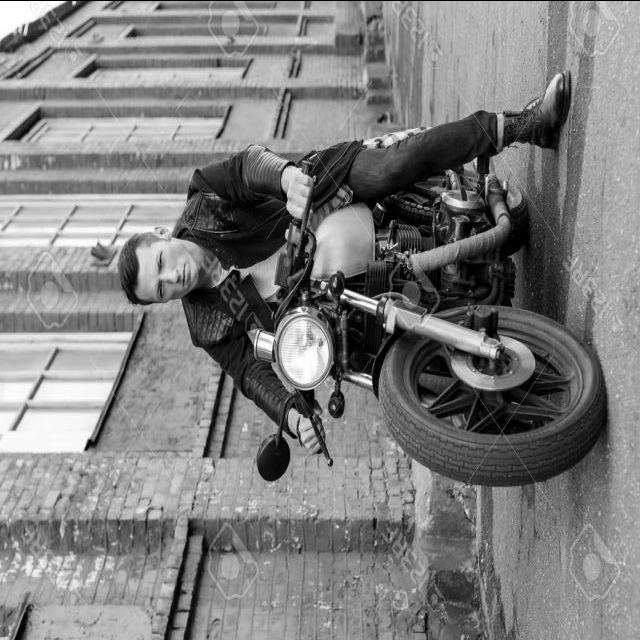motorcycle: (116, 74, 598, 504)
